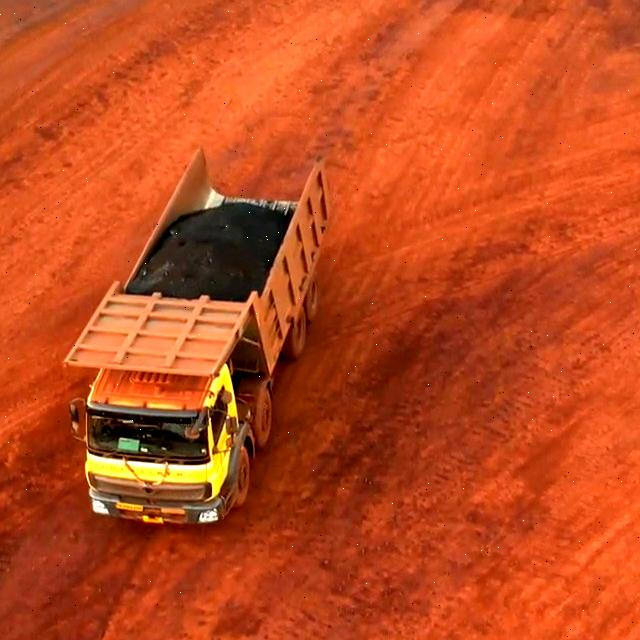Dumper truck: (83, 303, 243, 518)
